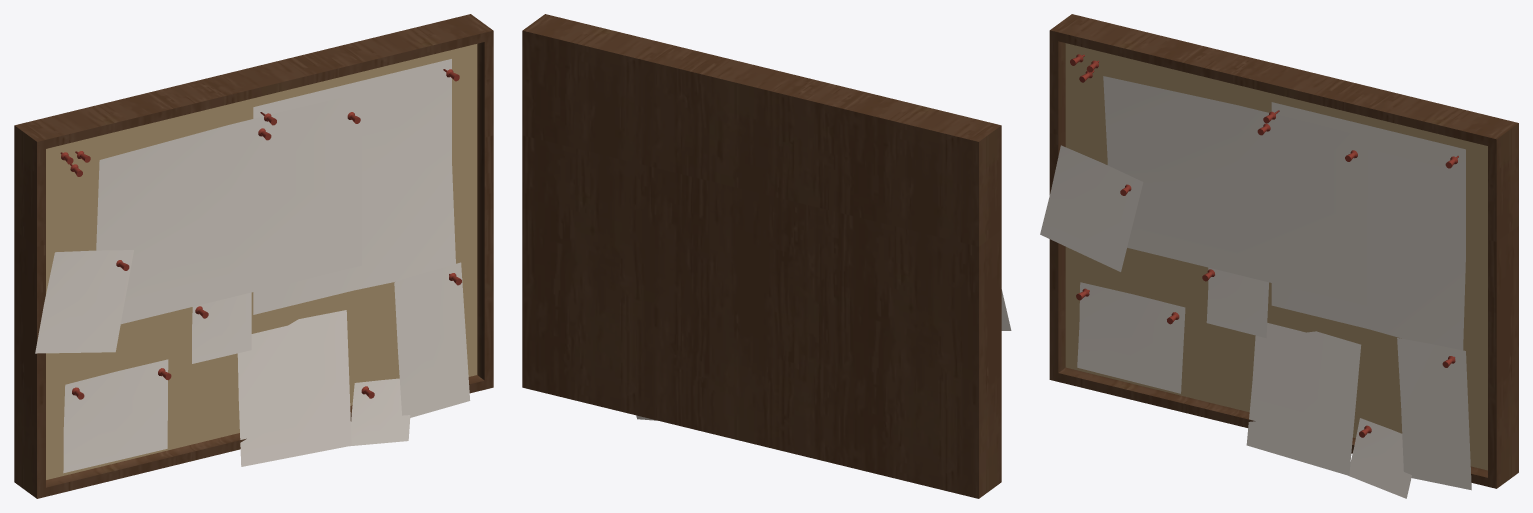
File: cork-noticeboard--1.gltf
3 views of the same model, side by side, from view 1: azimuth 30°, elevation 25°; view 2: azimuth 150°, elevation 25°; view 3: azimuth 330°, elevation 25° (orthographic). The views are drawn at different scales.
Parts seen in each view (by area): view 1: Cube.11647; view 2: Cube.11647; view 3: Cube.11647.
Part boxes in pixels (<box>): Cube.11647: <box>14,14,493,498</box>; Cube.11647: <box>522,14,1011,498</box>; Cube.11647: <box>1040,14,1518,498</box>.
Bounding box in the file's own units: 0.7868 × 0.6282 × 0.0931.
Materials: 4 (1 with a texture image).
